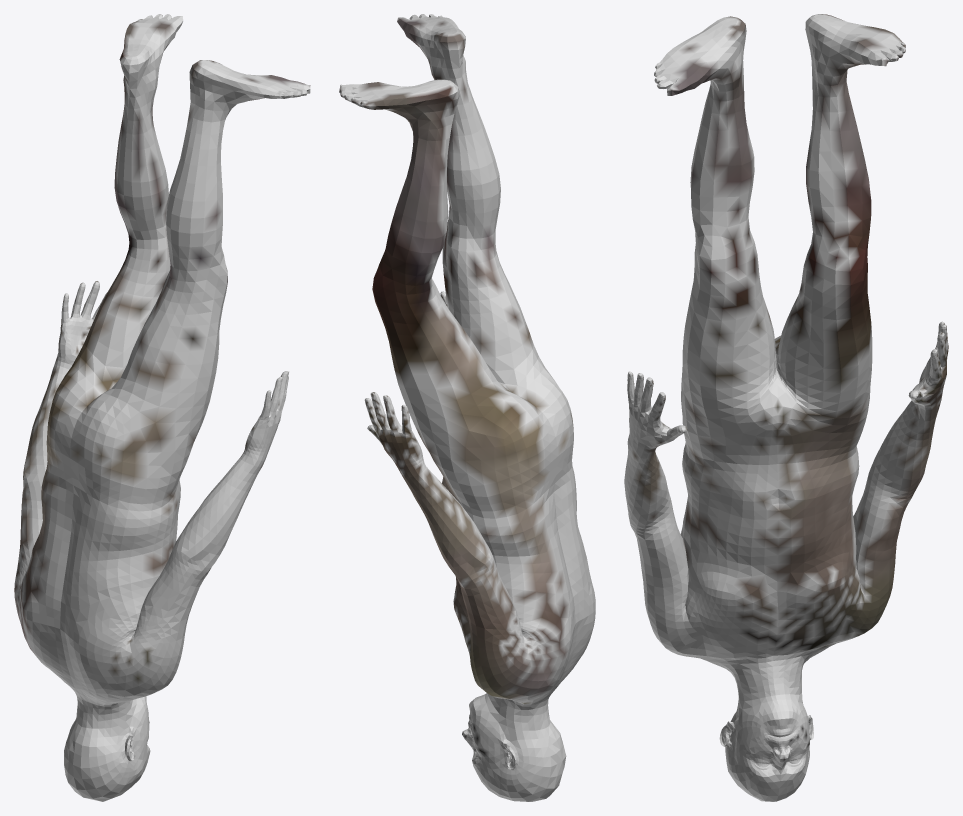
The model's file is 0001_c1s6_023671_07.jpg.obj.
3 views of the same model, side by side, from view 1: azimuth 30°, elevation 25°; view 2: azimuth 150°, elevation 25°; view 3: azimuth 270°, elevation 25° (orthographic). The views are drawn at different scales.
Bounding box in the file's own units: 0.6028 × 1.86 × 0.6642.
